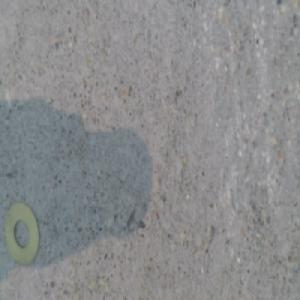Washer: (6, 200, 40, 262)
